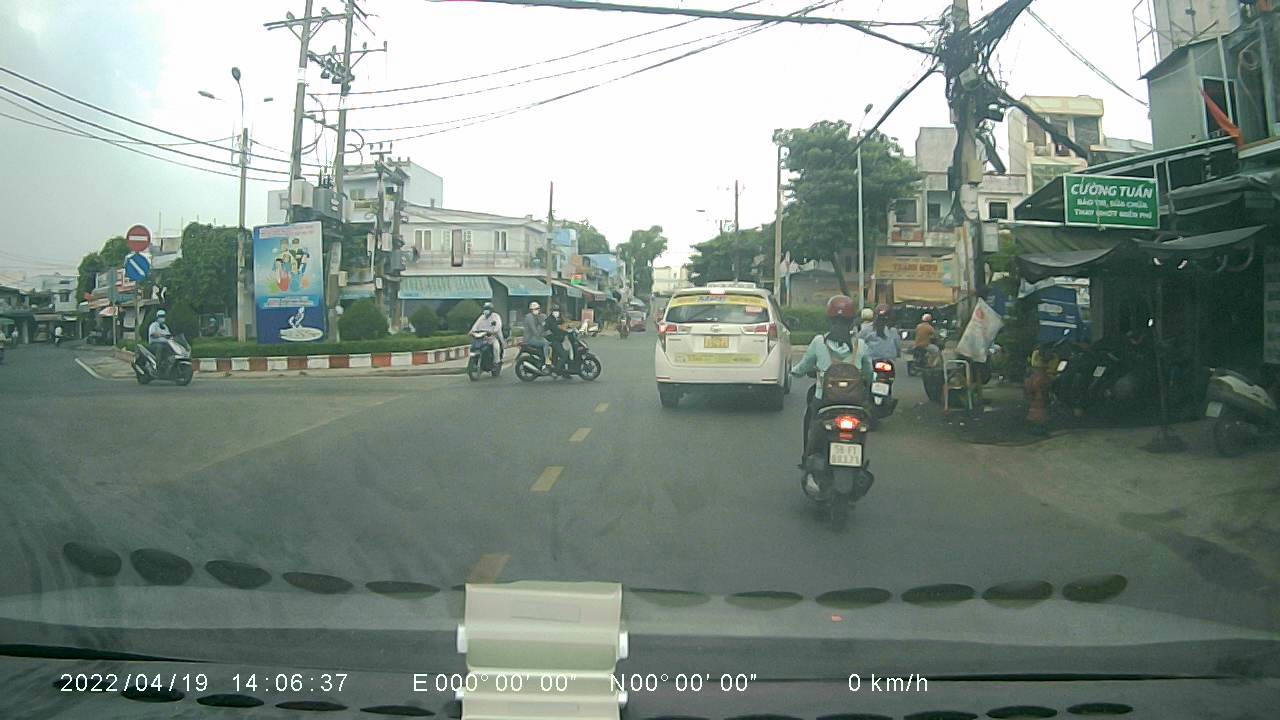Cam di nguoc chieu: (123, 223, 152, 253)
Huong di phai re phai: (123, 252, 153, 283)
